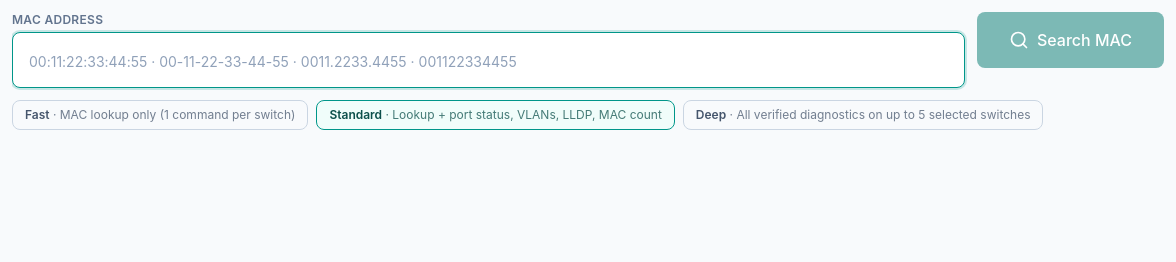
technical MAC search › requires an explicit small switch selection for DEEP mode
Replace the text in the field with placeholder "00:11:22:33:44:55" with "001122334455". click: (488, 60)
box: 12,32 -> 965,88
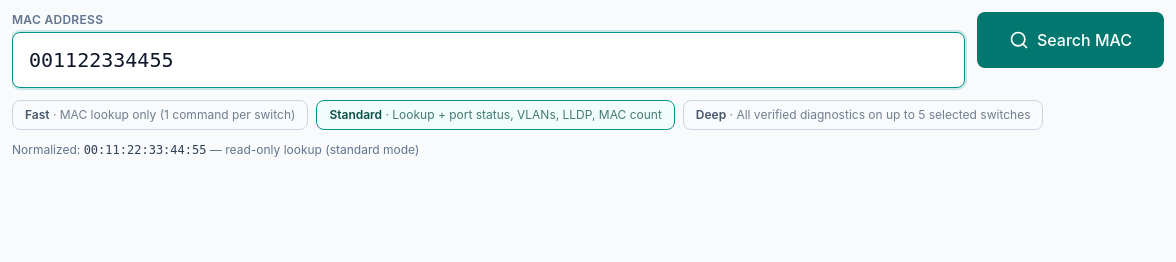
Click the radio button labelled "Deep · All verified diagnostics on up to 5 selected switches". click: (863, 115)
box: 683,100 -> 1044,130
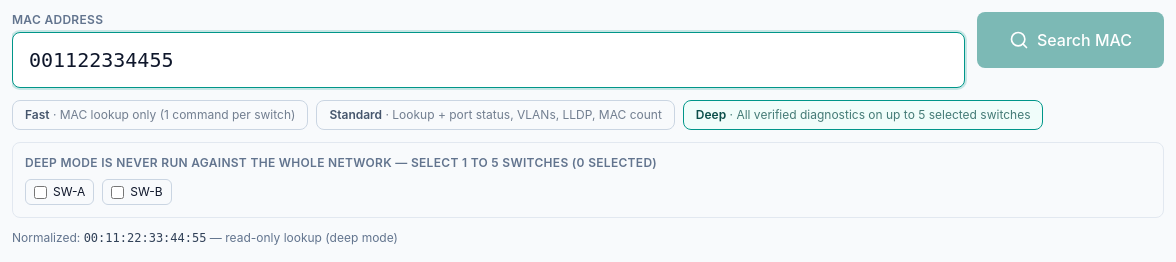
Expected: the button "Search MAC" is disabled, 977,12 -> 1164,68
Click the checkbox labelled "SW-A". click: (40, 192)
box: 34,186 -> 47,198
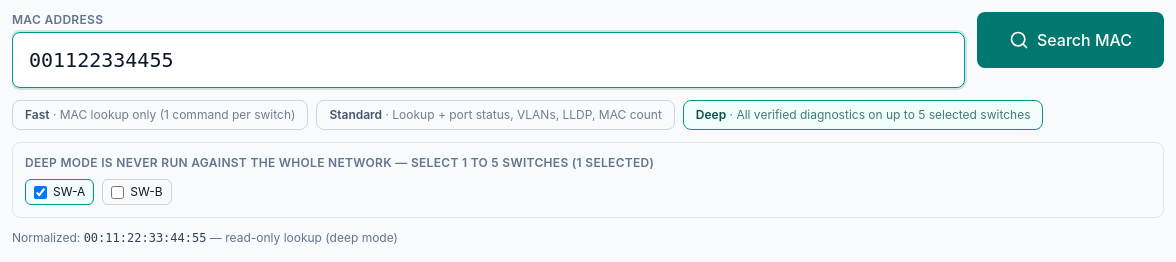
Expected: the button "Search MAC" is enabled, 977,12 -> 1164,68
